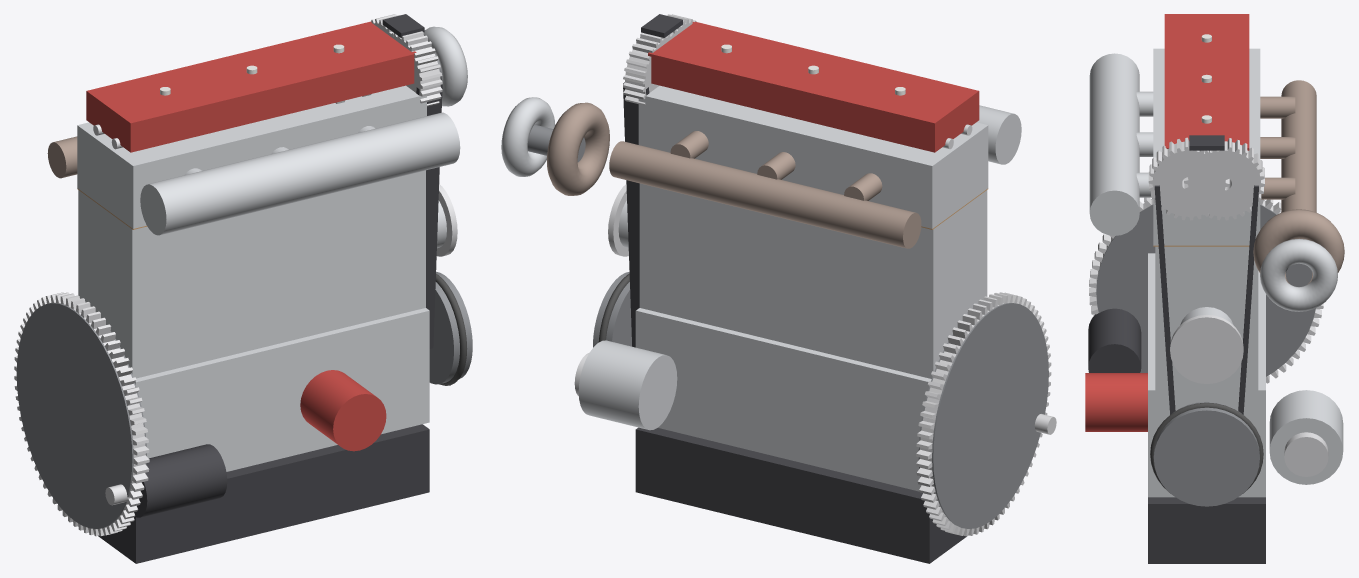
Rendered from combustion_3_linea_90p0_8p6_8p6_dohc_4_si_correa_nafta.glb.
3 renders of one model, left to right at view 1: azimuth 30°, elevation 25°; view 2: azimuth 150°, elevation 25°; view 3: azimuth 270°, elevation 25°, orthographic. The views are drawn at different scales.
Parts seen in each view (by area): view 1: bloque, volante_inercia, tapa_valvulas_0, carter, multiple_admision_0, culata_0, motor_arranque, filtro_aceite, polea_ciguenal, distribucion_correa, distribucion_poleas, turbo_0 (+2 smaller); view 2: bloque, volante_inercia, tapa_valvulas_0, carter, culata_0, multiple_escape_0, turbo_0, alternador, distribucion_correa, polea_ciguenal, distribucion_poleas, multiple_admision_0 (+1 smaller); view 3: bloque, tapa_valvulas_0, multiple_admision_0, polea_ciguenal, volante_inercia, carter, distribucion_poleas, turbo_0, alternador, multiple_escape_0, culata_0, bomba_agua (+3 smaller).
Part boxes in pixels (left/top/right/bottom): bloque: left=78, top=170, right=429, bottom=471; volante_inercia: left=14, top=292, right=149, bottom=536; tapa_valvulas_0: left=86, top=21, right=416, bottom=152; carter: left=98, top=424, right=429, bottom=563; multiple_admision_0: left=140, top=112, right=460, bottom=235; culata_0: left=77, top=85, right=426, bottom=228; motor_arranque: left=105, top=444, right=227, bottom=517; filtro_aceite: left=300, top=370, right=386, bottom=451; polea_ciguenal: left=429, top=271, right=472, bottom=385; distribucion_correa: left=382, top=14, right=442, bottom=348; distribucion_poleas: left=369, top=14, right=442, bottom=106; turbo_0: left=423, top=26, right=467, bottom=106; bloque: left=635, top=183, right=987, bottom=491; volante_inercia: left=916, top=292, right=1051, bottom=536; tapa_valvulas_0: left=648, top=21, right=979, bottom=152; carter: left=635, top=427, right=966, bottom=563; culata_0: left=638, top=85, right=988, bottom=228; multiple_escape_0: left=609, top=131, right=921, bottom=248; turbo_0: left=501, top=97, right=609, bottom=195; alternador: left=574, top=340, right=677, bottom=430; distribucion_correa: left=623, top=14, right=682, bottom=347; polea_ciguenal: left=593, top=271, right=631, bottom=347; distribucion_poleas: left=623, top=14, right=696, bottom=105; multiple_admision_0: left=977, top=105, right=1021, bottom=164; bloque: left=1148, top=246, right=1265, bottom=497; tapa_valvulas_0: left=1164, top=14, right=1249, bottom=150; multiple_admision_0: left=1089, top=53, right=1153, bottom=235; polea_ciguenal: left=1150, top=401, right=1263, bottom=506; volante_inercia: left=1089, top=197, right=1323, bottom=383; carter: left=1148, top=497, right=1265, bottom=563; distribucion_poleas: left=1148, top=137, right=1264, bottom=220; turbo_0: left=1253, top=209, right=1344, bottom=311; alternador: left=1269, top=390, right=1343, bottom=484; multiple_escape_0: left=1260, top=80, right=1316, bottom=238; culata_0: left=1153, top=48, right=1260, bottom=245; bomba_agua: left=1170, top=307, right=1243, bottom=383.
Bounding box in the file's own units: 56.5 × 54.77 × 30.27.
